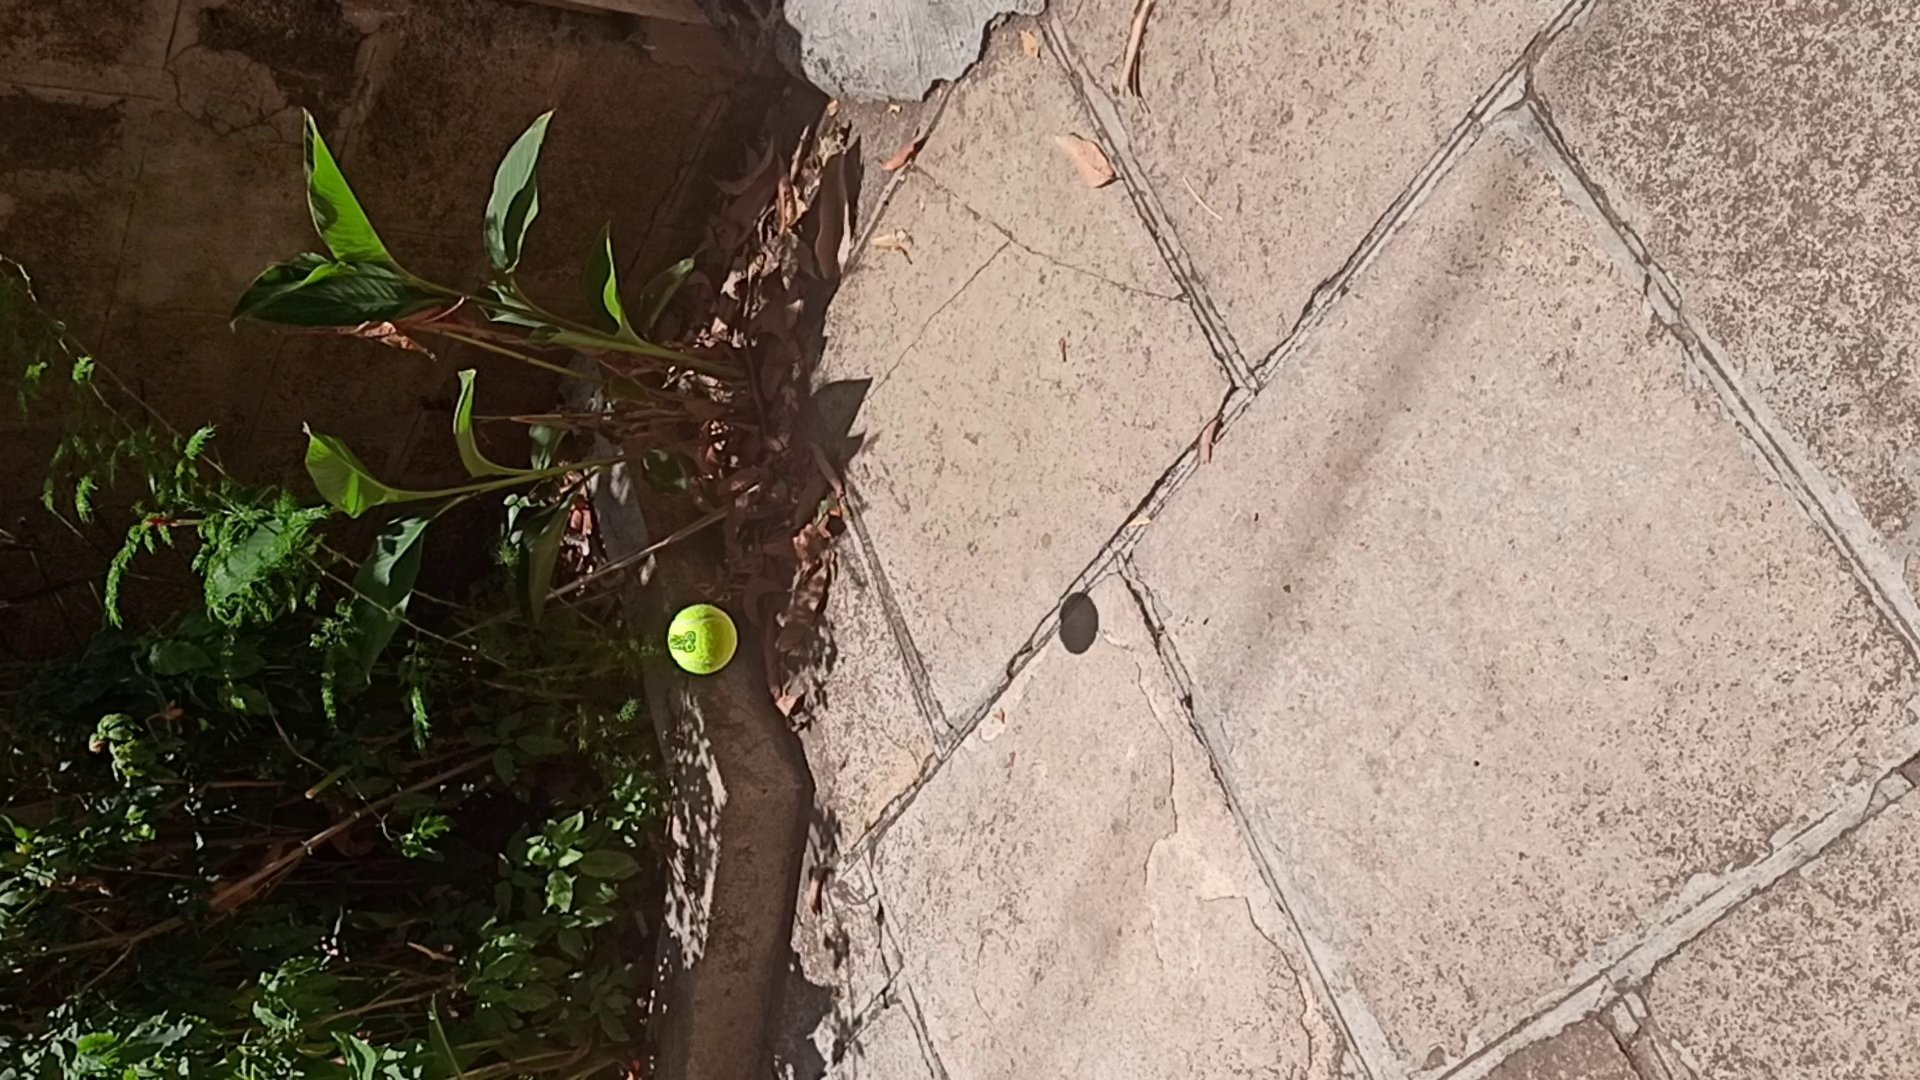Tennis-Ball: (667, 604, 737, 674)
